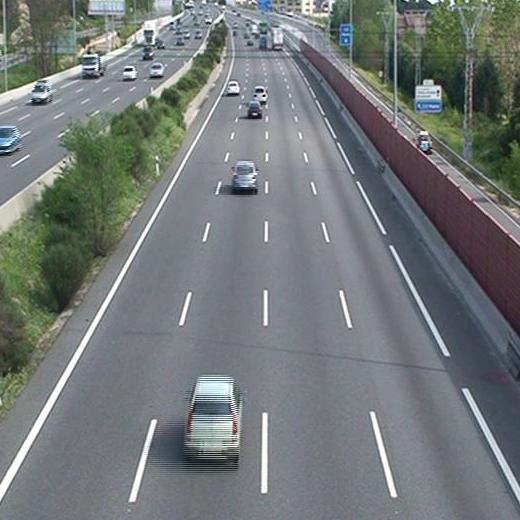car: (183, 374, 245, 464), (229, 160, 260, 192), (245, 102, 263, 116), (226, 79, 241, 95)
truck: (270, 27, 285, 50)
